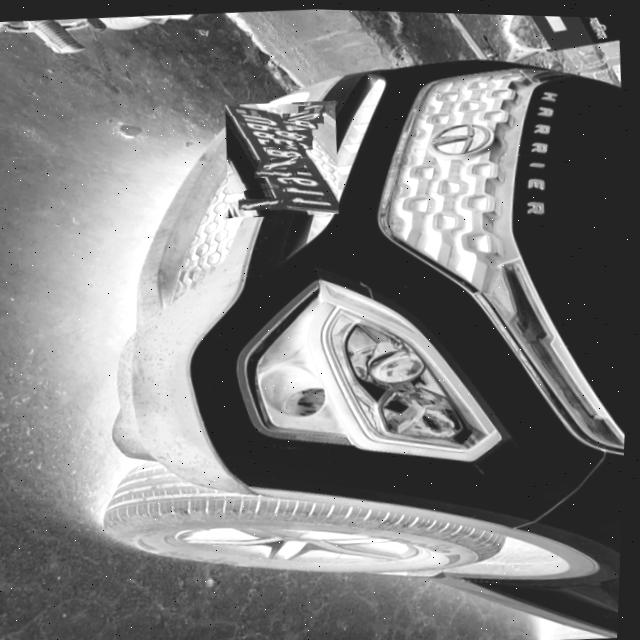1: (238, 195, 283, 211), (253, 163, 294, 178), (243, 185, 286, 198)
5: (268, 134, 311, 150)
6: (251, 172, 290, 189)
8: (273, 126, 312, 141)
B: (265, 143, 304, 160)
IND: (297, 102, 325, 116)
Indian_registered: (225, 103, 339, 211)
P: (277, 117, 317, 130)
U: (281, 109, 323, 125)
X: (257, 153, 302, 169)
